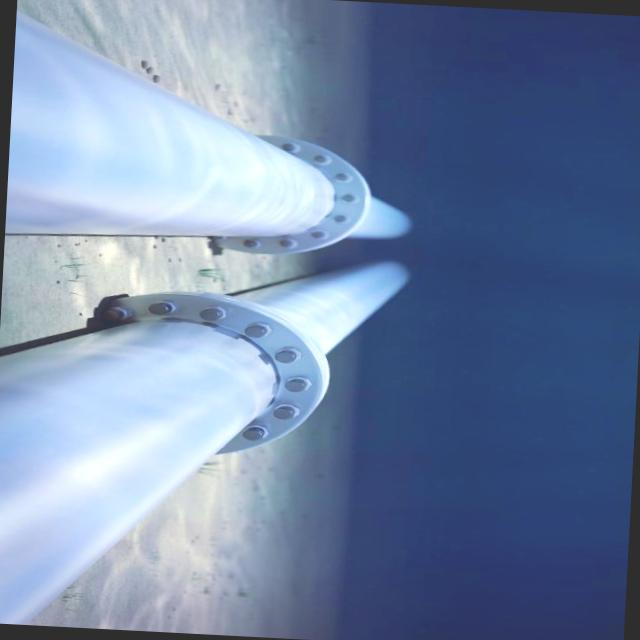gas: (0, 258, 411, 624), (4, 8, 408, 240)
